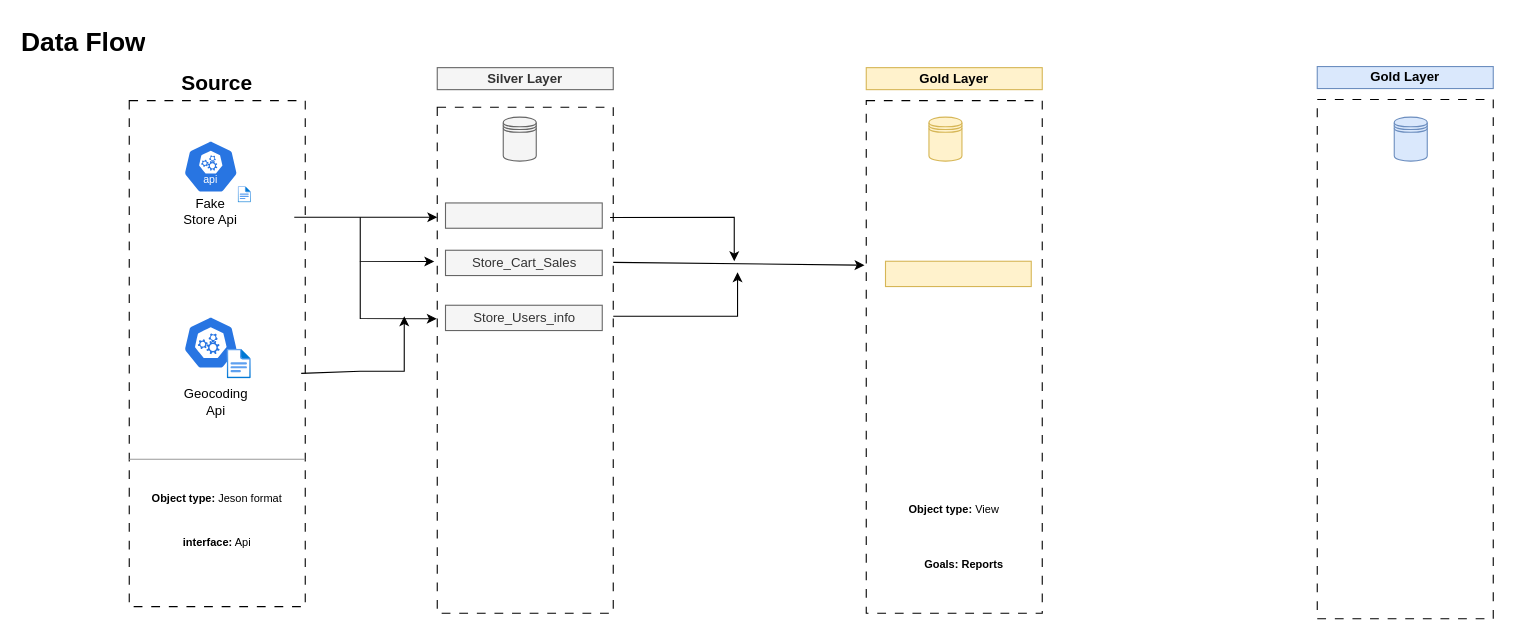
The diagram is 1513 pixels wide and 638 high, and some of its shapes have lost their labels. The shapes that lost their labels are listed below. From the top down, each one's centre as x and y in pixels, then its label:
At (x=523, y=215): "Store_Products_Info".
At (x=957, y=273): "Store_Sales_Data".
